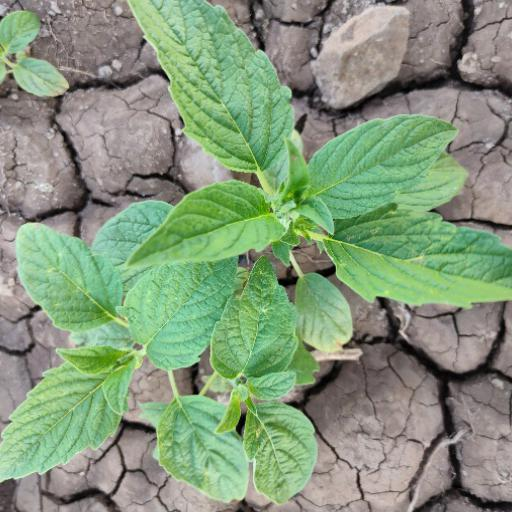crop: (1, 17, 511, 502)
